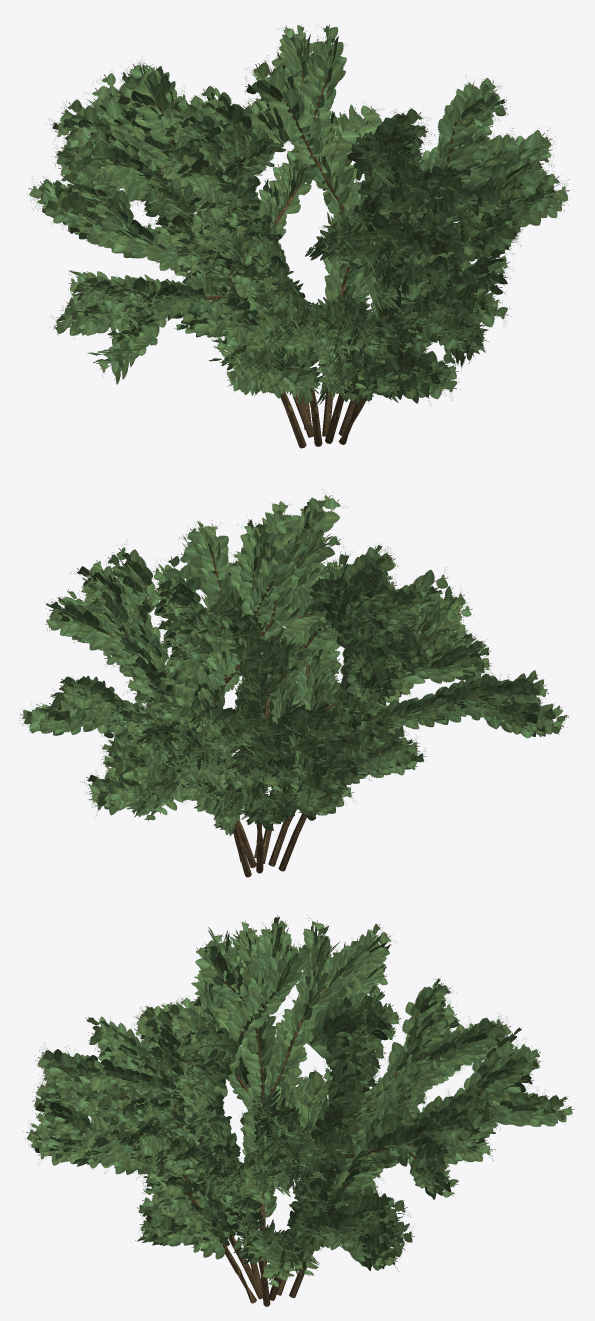
The model's file is alder_thicket_v02.glb.
3 views of the same model, one above another, from view 1: azimuth 30°, elevation 25°; view 2: azimuth 150°, elevation 25°; view 3: azimuth 270°, elevation 25° (orthographic). The views are drawn at different scales.
Visible parts, largest first — view 1: alder_thicket_v02; view 2: alder_thicket_v02; view 3: alder_thicket_v02.
Part boxes in pixels (x1=…): alder_thicket_v02: x1=25, y1=21, x2=572, y2=448; alder_thicket_v02: x1=17, y1=487, x2=568, y2=877; alder_thicket_v02: x1=23, y1=915, x2=574, y2=1306.
Size of the model in its own units: 6.43 by 4.4 by 6.69.
Materials: 2 (2 with a texture image).
